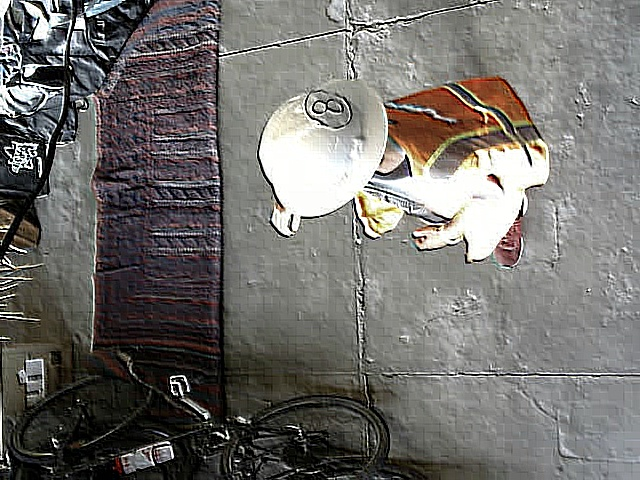eight: (302, 91, 351, 131)
